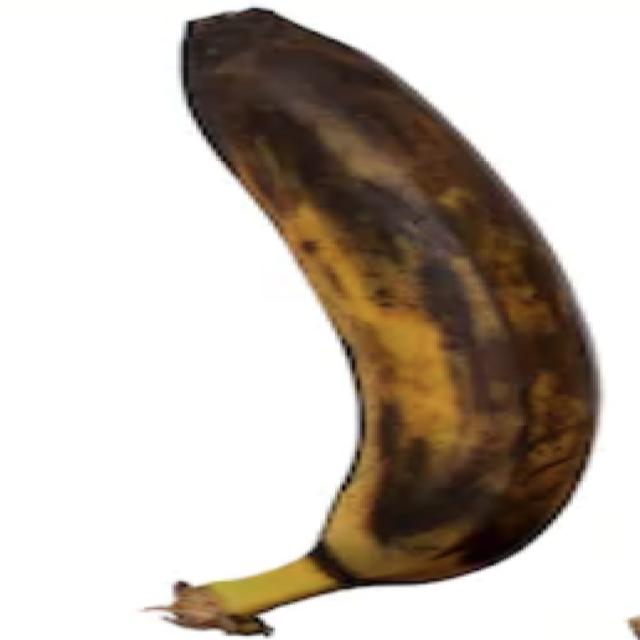Rotten: (94, 0, 612, 640)
